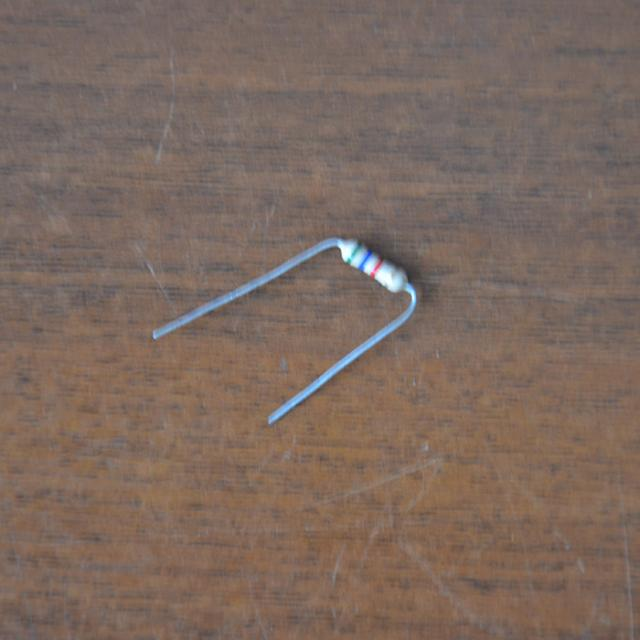blue: (357, 249, 372, 268)
gold: (384, 267, 400, 287)
green: (346, 242, 359, 261)
red: (370, 258, 384, 277)
